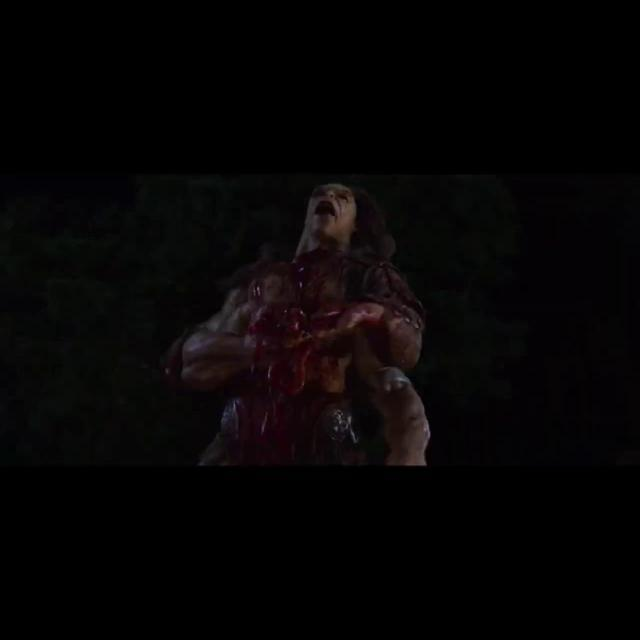blood: (240, 240, 389, 465)
